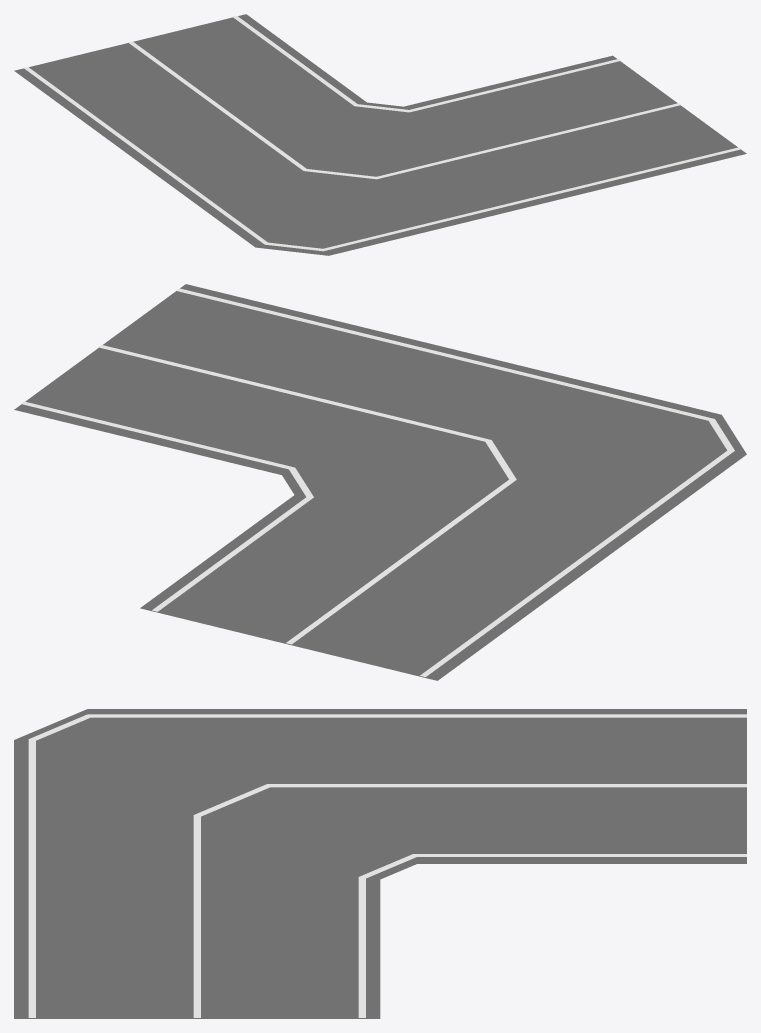
Rendered from SM_Truck_Angle_02.fbx.
3 renders of one model, top to bottom at view 1: azimuth 30°, elevation 25°; view 2: azimuth 150°, elevation 25°; view 3: azimuth 270°, elevation 25°, orthographic. The views are drawn at different scales.
Visible parts, largest first — view 1: SM_Truck_Angle_02; view 2: SM_Truck_Angle_02; view 3: SM_Truck_Angle_02.
Part boxes in pixels (<box>): SM_Truck_Angle_02: <box>14,14,746,255</box>; SM_Truck_Angle_02: <box>14,284,746,680</box>; SM_Truck_Angle_02: <box>14,709,746,1018</box>.
Size of the model in its own units: 2000 by 2.59 by 2000.
Materials: 2 (2 with a texture image).
